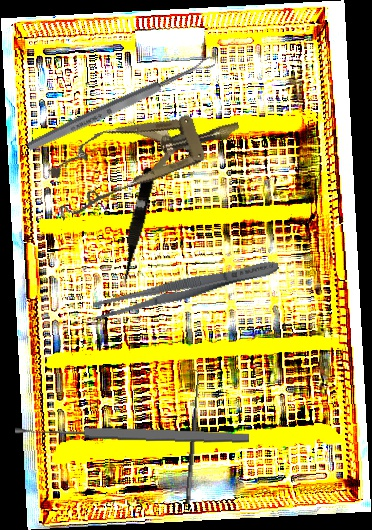Dressing Forceps: (92, 254, 281, 323)
Hook Surgical: (175, 368, 204, 505)
Micro Scissor: (114, 166, 157, 288)
Speculum: (41, 91, 250, 221)
Surgical Spoon: (25, 54, 217, 154), (14, 422, 250, 446)
